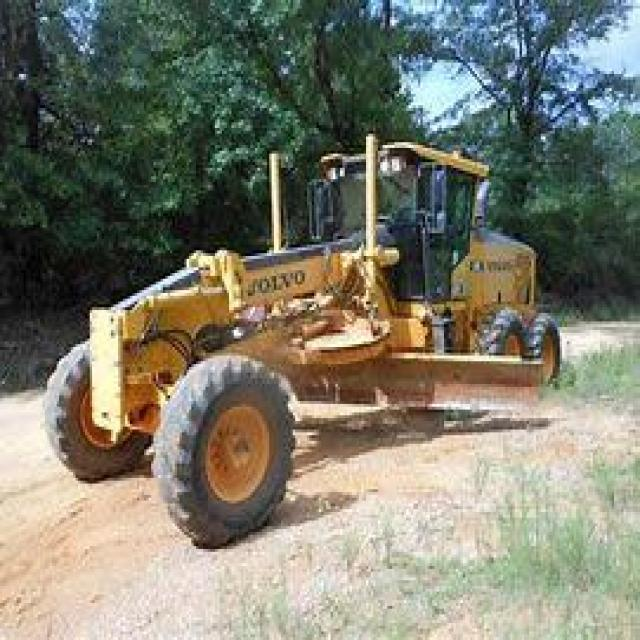buldozerpayloadergrader: (40, 122, 581, 555)
